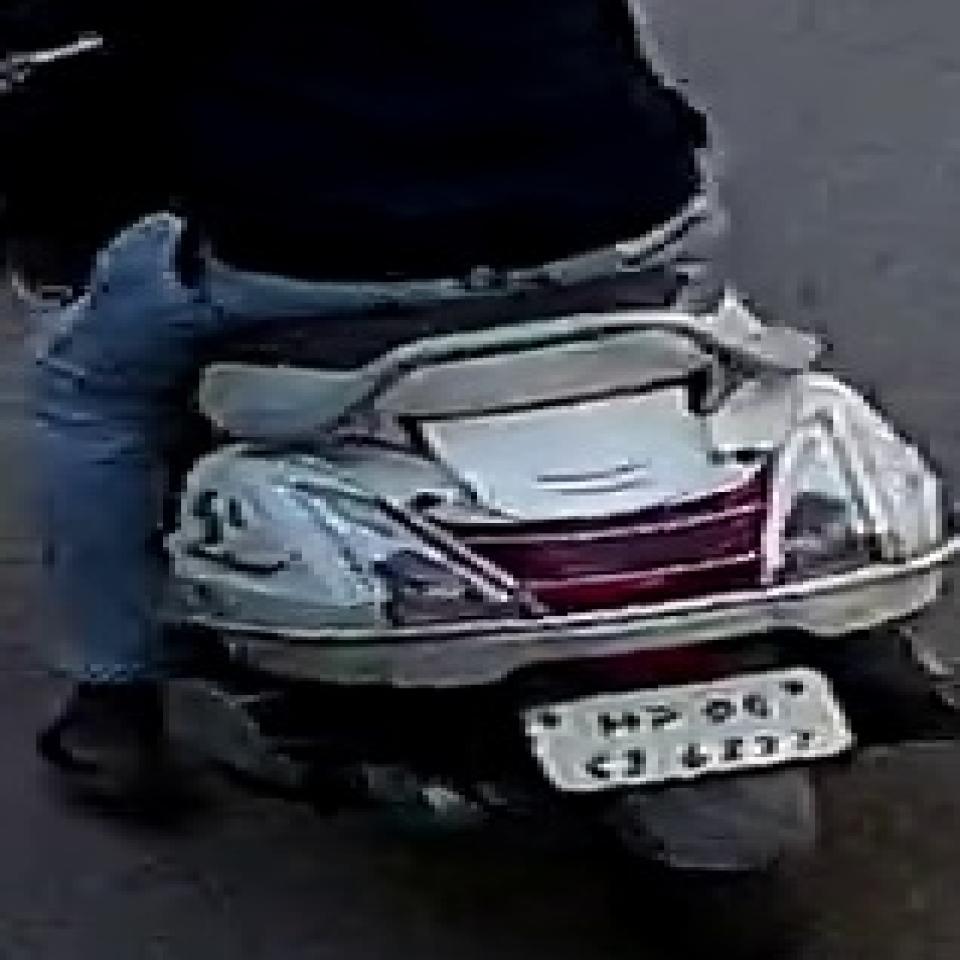tail_light: (443, 464, 774, 610)
